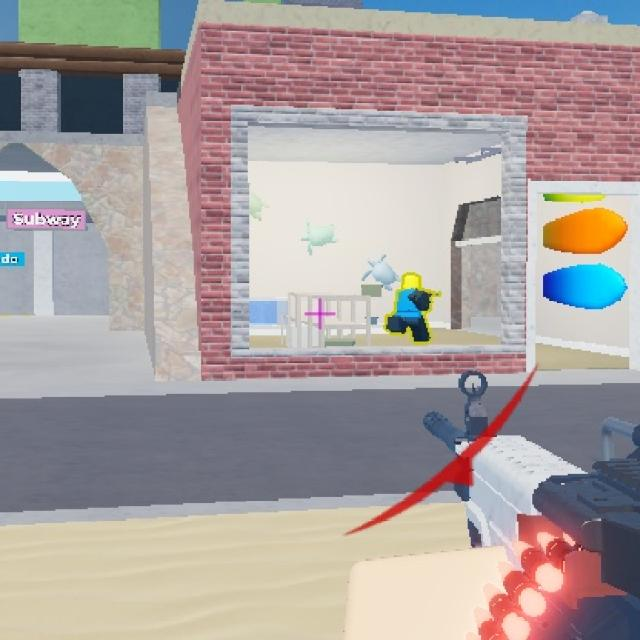player: (382, 270, 435, 346)
